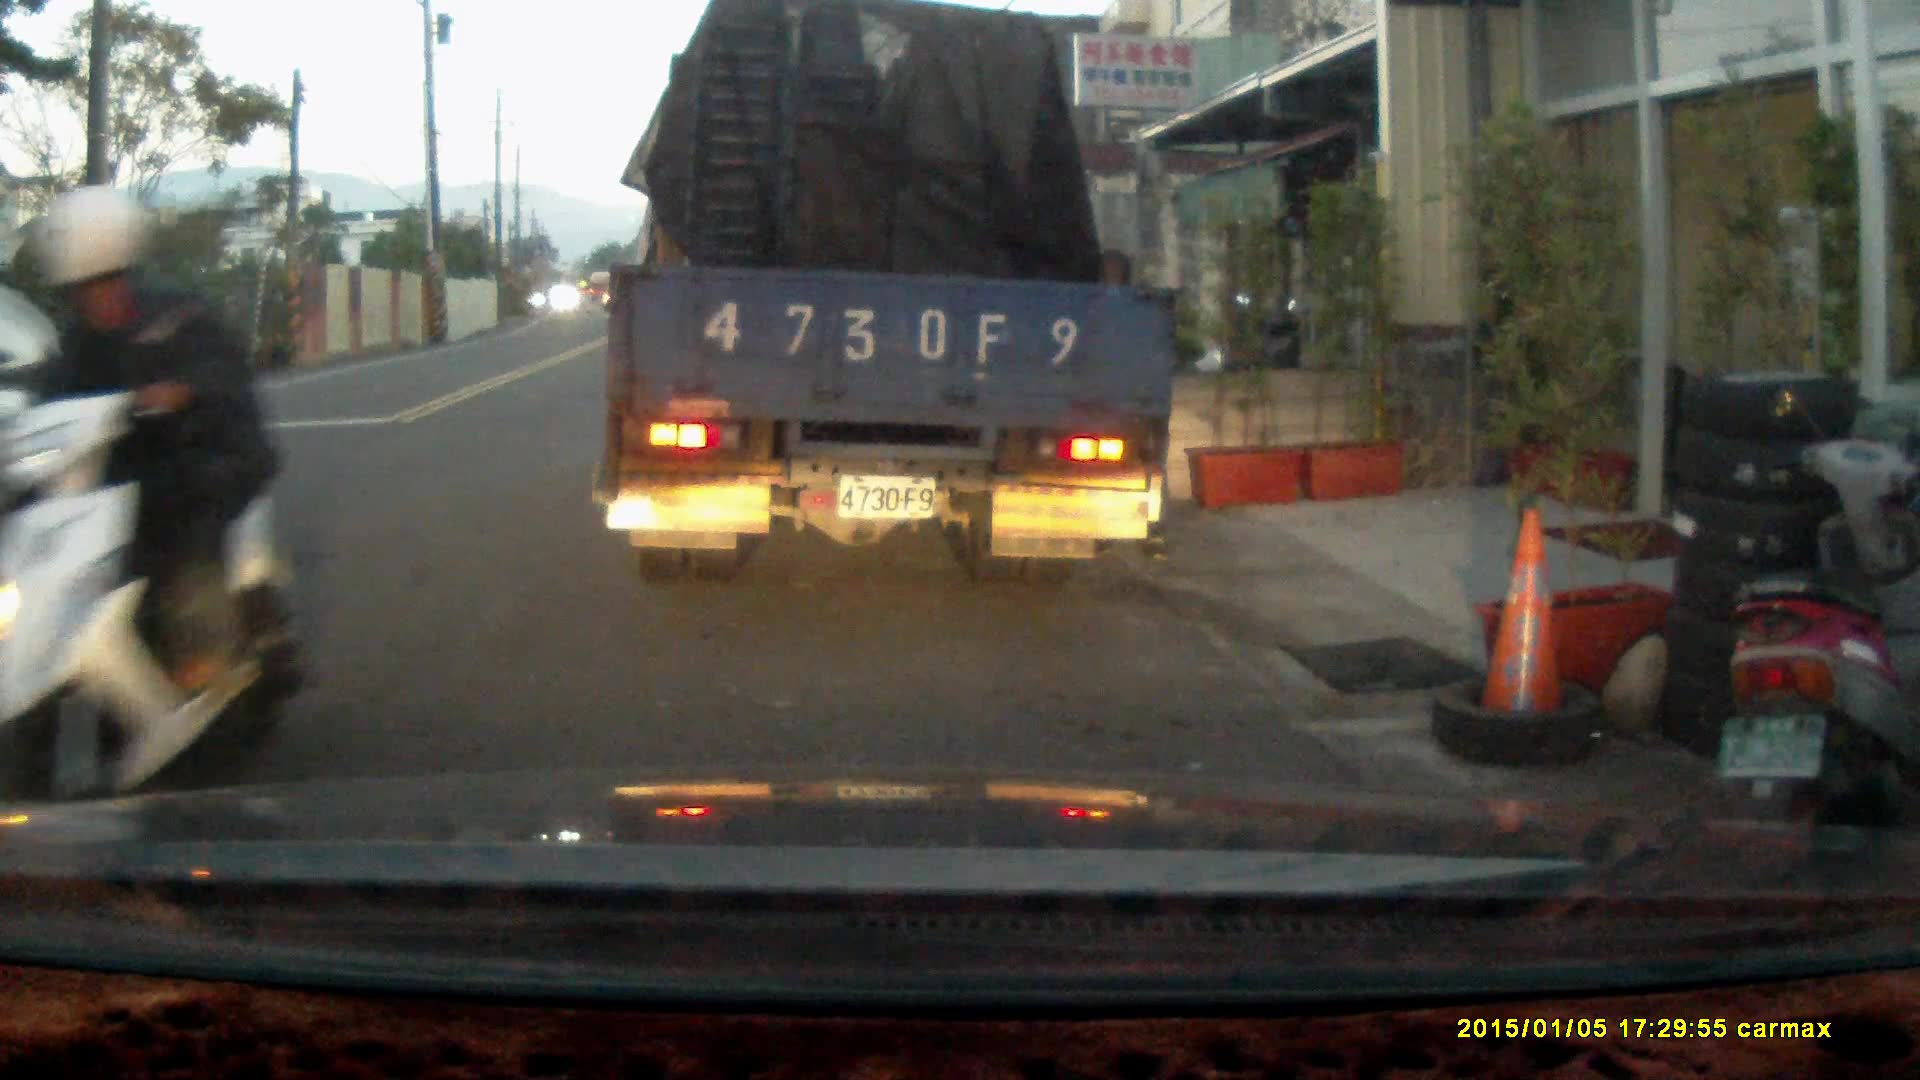rider: (0, 184, 296, 841)
vehicle: (599, 23, 1185, 572)
